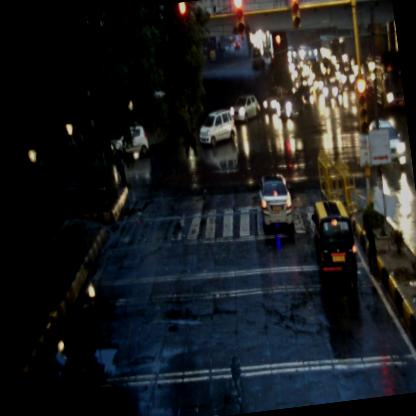bus: (362, 44, 405, 116), (319, 30, 348, 70)
car: (308, 198, 360, 292), (256, 168, 296, 236), (197, 106, 236, 146), (228, 89, 263, 124)
